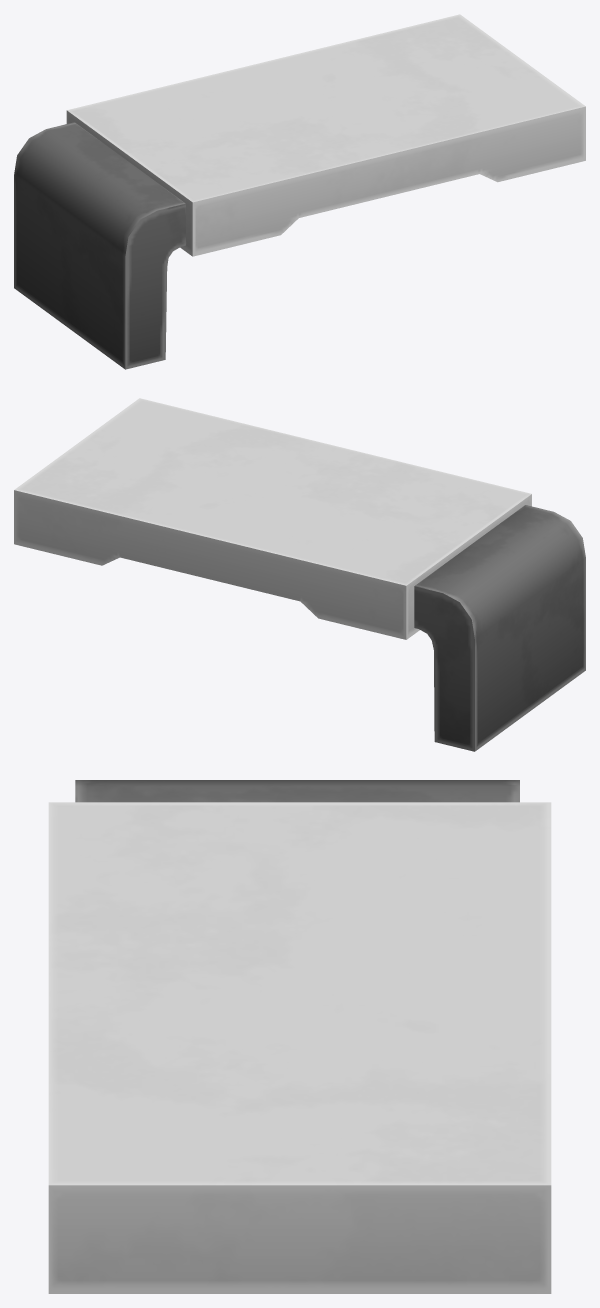
File: SM_prop_Laboratory_Desk.fbx
3 views of the same model, one above another, from view 1: azimuth 30°, elevation 25°; view 2: azimuth 150°, elevation 25°; view 3: azimuth 270°, elevation 25° (orthographic). The views are drawn at different scales.
Parts seen in each view (by area): view 1: SM_prop_Laboratory_Desk_low; view 2: SM_prop_Laboratory_Desk_low; view 3: SM_prop_Laboratory_Desk_low.
Part boxes in pixels (x1,y1,x2,y2): SM_prop_Laboratory_Desk_low: (14,14,585,369); SM_prop_Laboratory_Desk_low: (14,398,585,751); SM_prop_Laboratory_Desk_low: (48,780,551,1293).
Size of the model in its own units: 189 by 62.65 by 90.9.
1 material, 1 textured.
